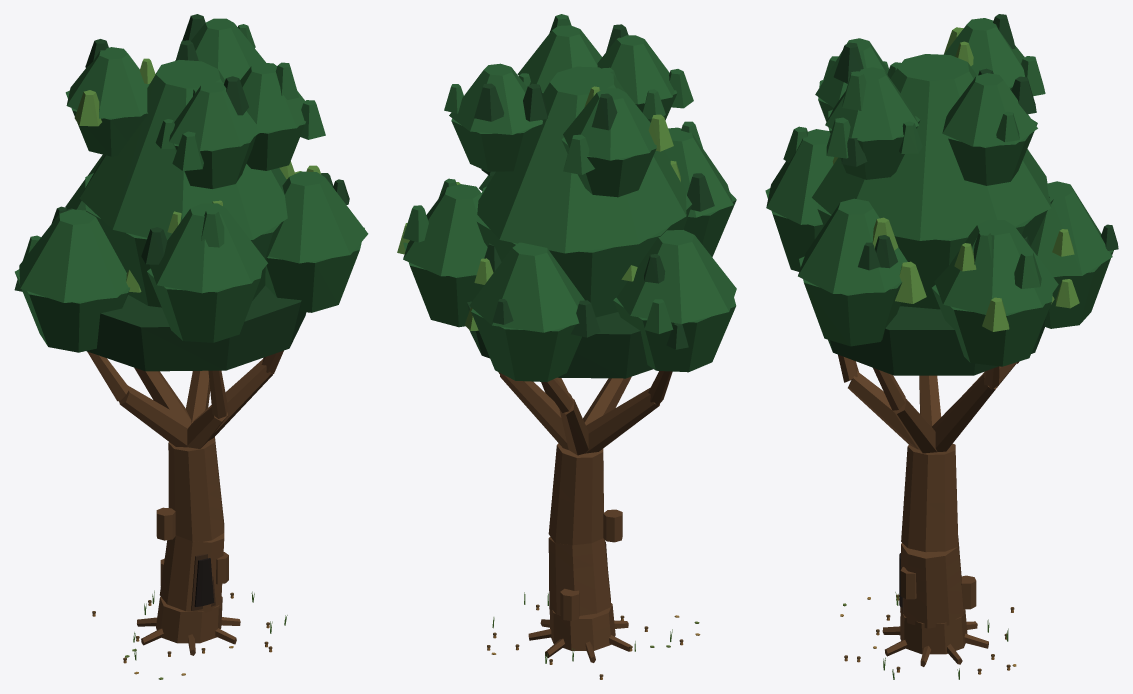
The model's file is tree_oak_old.obj.
3 views of the same model, side by side, from view 1: azimuth 30°, elevation 25°; view 2: azimuth 150°, elevation 25°; view 3: azimuth 270°, elevation 25° (orthographic). The views are drawn at different scales.
Parts seen in each view (by area): view 1: Crown, Crown.Under, Trunk, Clump, Branch, Trunk.Stump, Burl, Root, Hollow; view 2: Crown, Clump, Trunk, Branch, Crown.Under, Burl, Trunk.Stump, Root; view 3: Crown, Clump, Trunk, Branch, Crown.Under, Trunk.Stump, Root, Burl.
Boxes of the visible parts, bbox=[...] form: Crown: bbox=[15, 18, 368, 352]; Crown.Under: bbox=[86, 285, 306, 371]; Trunk: bbox=[158, 437, 224, 624]; Clump: bbox=[14, 14, 349, 292]; Branch: bbox=[87, 350, 283, 448]; Trunk.Stump: bbox=[156, 610, 222, 643]; Burl: bbox=[156, 507, 228, 586]; Root: bbox=[137, 617, 240, 655]; Hollow: bbox=[194, 558, 214, 606]; Crown: bbox=[403, 25, 736, 381]; Clump: bbox=[397, 14, 714, 349]; Trunk: bbox=[548, 443, 613, 631]; Branch: bbox=[498, 371, 672, 455]; Crown.Under: bbox=[467, 301, 652, 378]; Burl: bbox=[560, 509, 622, 620]; Trunk.Stump: bbox=[550, 617, 615, 650]; Root: bbox=[528, 619, 630, 662]; Crown: bbox=[765, 18, 1113, 366]; Clump: bbox=[783, 14, 1118, 331]; Trunk: bbox=[900, 443, 966, 635]; Branch: bbox=[838, 354, 1019, 453]; Crown.Under: bbox=[828, 306, 1045, 375]; Trunk.Stump: bbox=[900, 621, 967, 654]; Root: bbox=[882, 621, 988, 666]; Burl: bbox=[900, 567, 976, 609].
Bounding box in the file's own units: 9 × 16.1 × 8.57.
